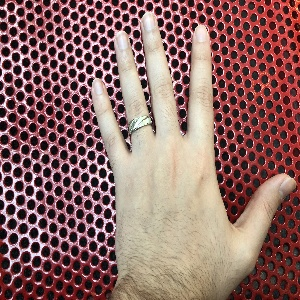hand: (91, 13, 295, 300)
